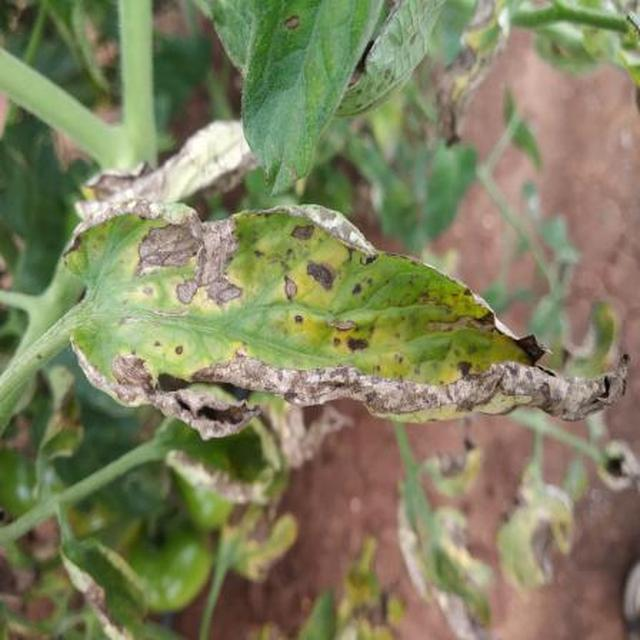Early Blight Leaf: (175, 282, 640, 628)
